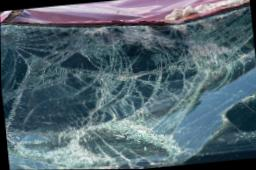Windshield: (0, 5, 256, 170)
